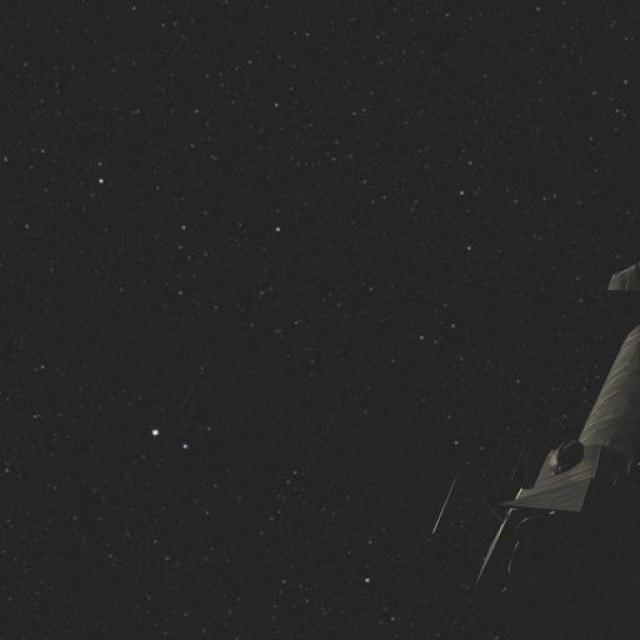xmm_newton: (394, 215, 640, 604)
